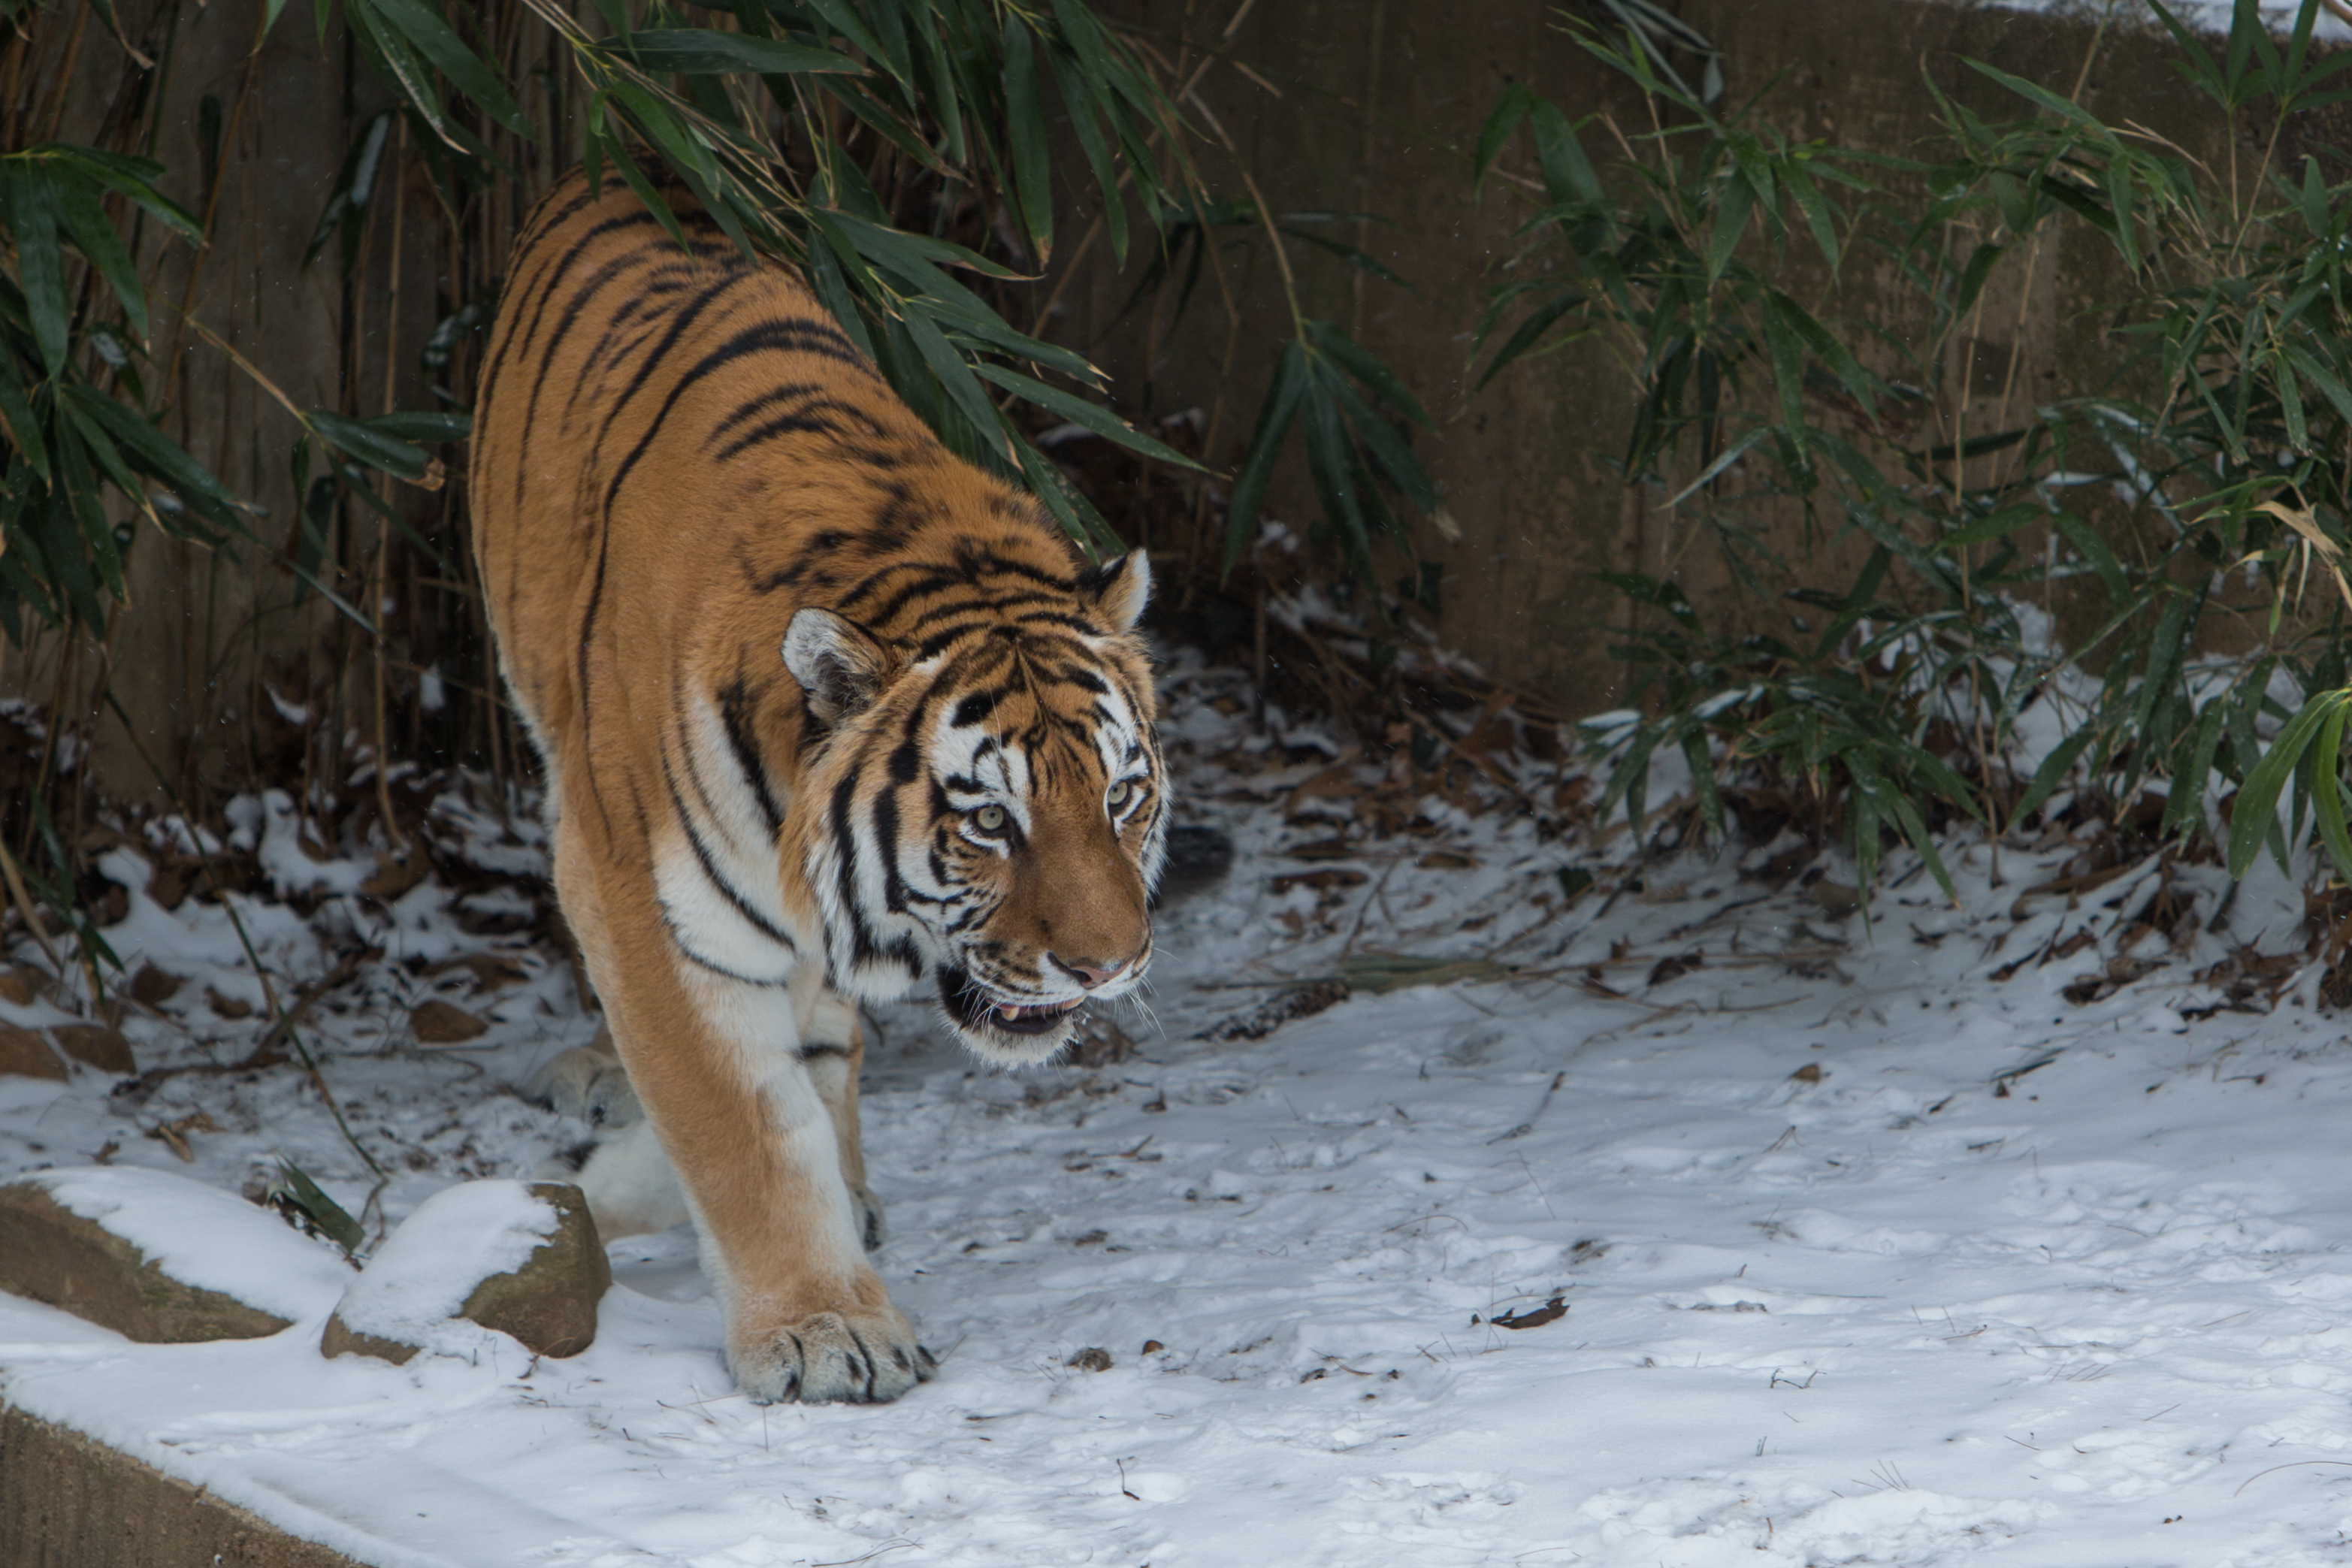Tiger: (422, 115, 1227, 1444)
